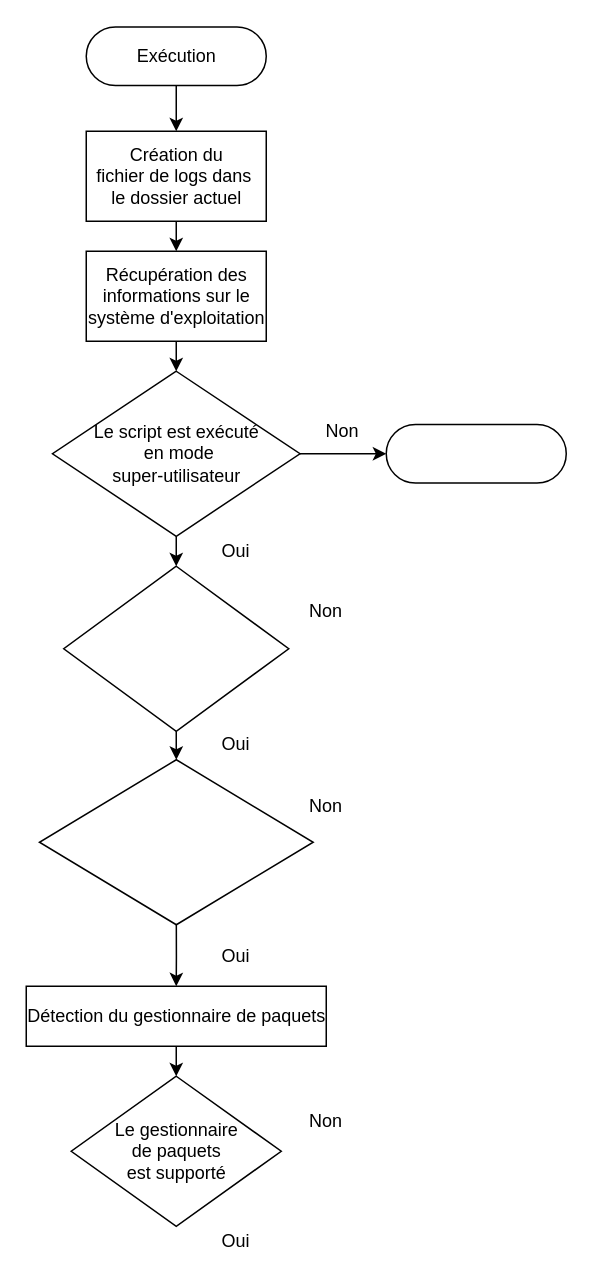
Image size: 593x1281. Some labels were removed from this diagram. The centre of each missing label's shape, as x and y in pixels:
Fin erreur fatale: the point at 475,453
L'argument correspond au nom de l'utilisateur: the point at 175,841
Le script est exécuté avec un argument: the point at 175,648
